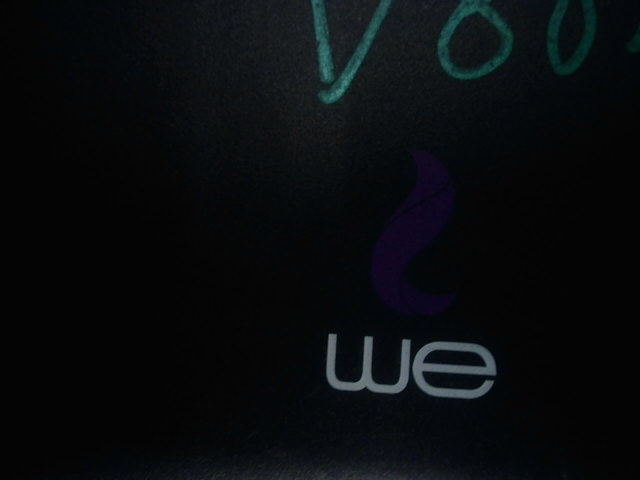AT_We: (296, 134, 505, 405)
